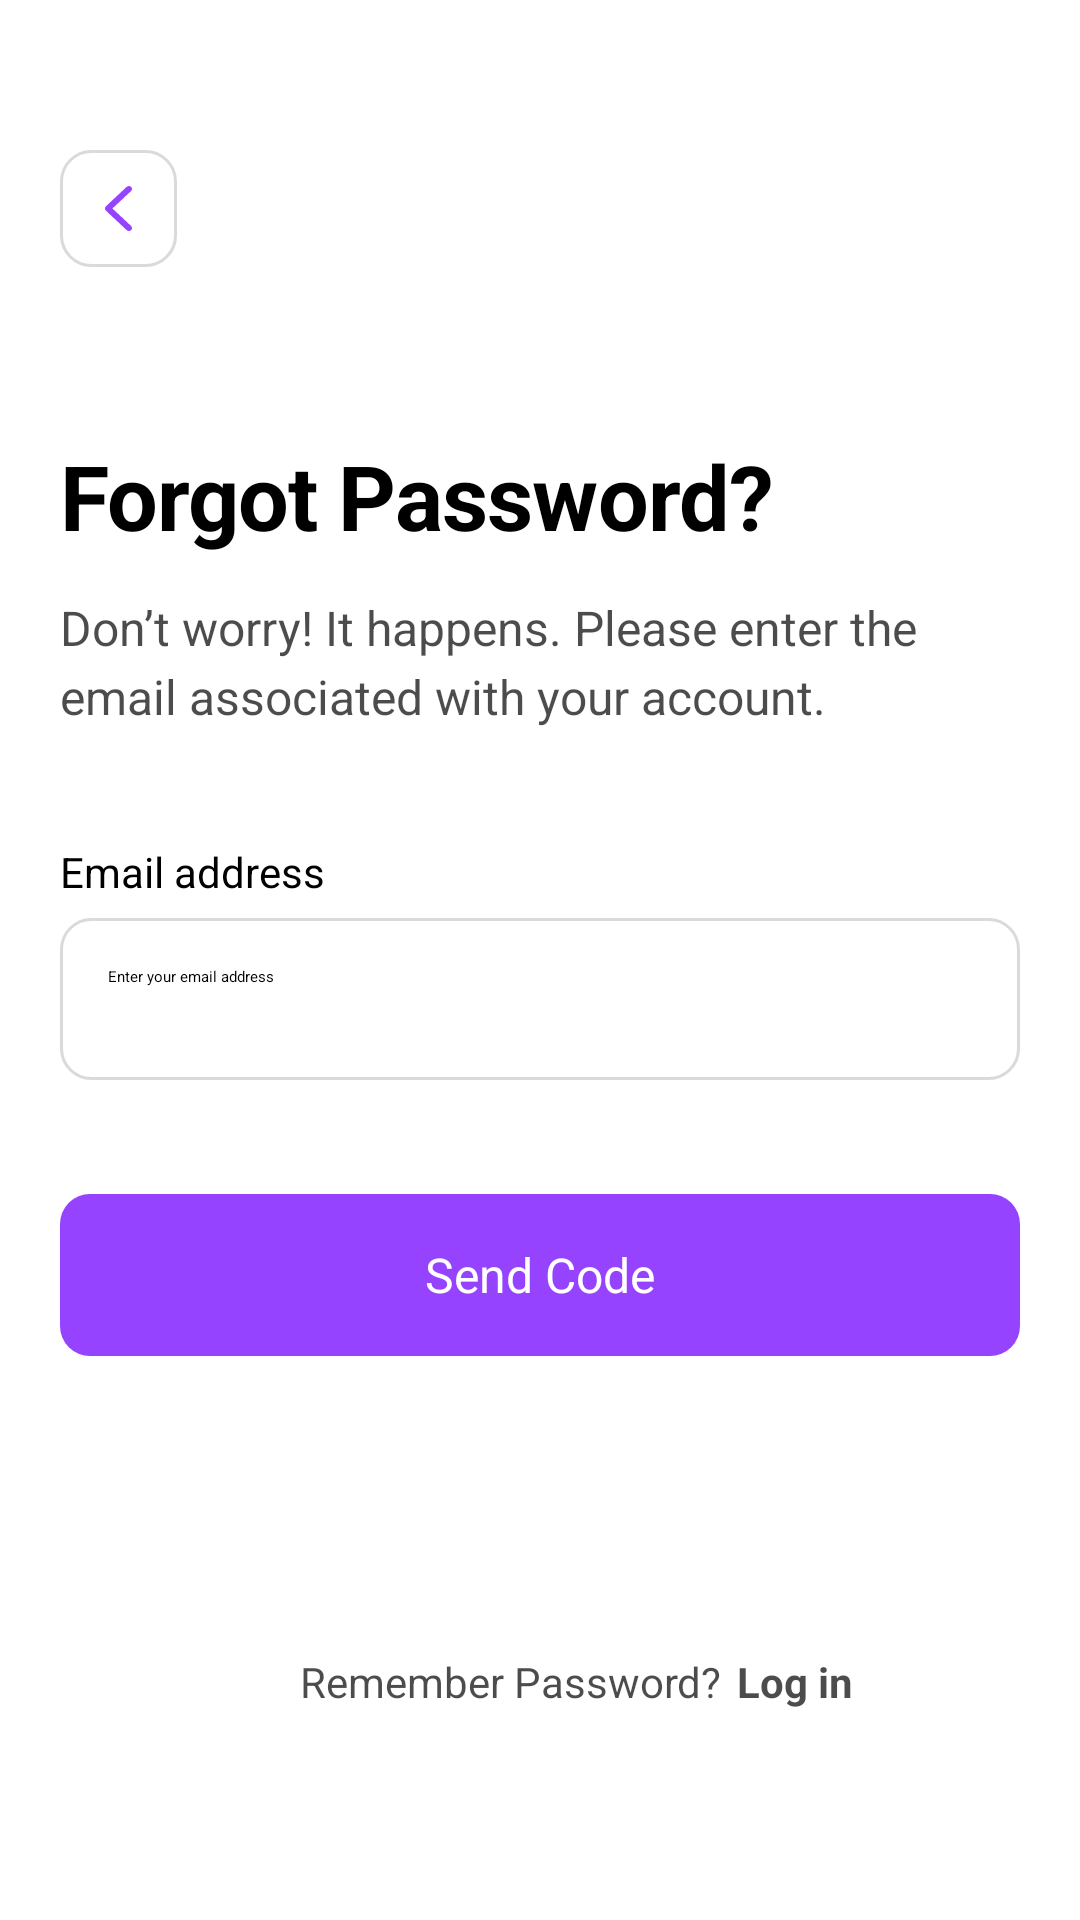

Point at icon controls on the screen. Image size 1080*1920, points as [x,y].
back: [118,208]
